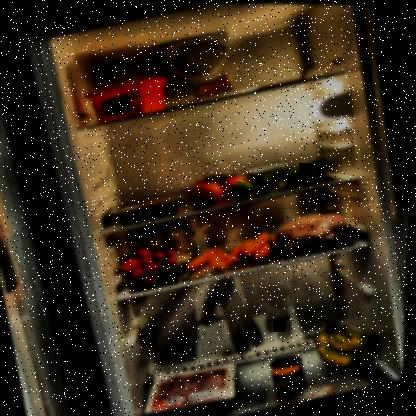banana: (312, 308, 393, 373)
beef: (103, 188, 190, 230)
butter: (84, 71, 175, 127)
carrot: (181, 229, 281, 280)
cheese: (190, 70, 240, 104)
chicken: (271, 200, 362, 261)
corn: (270, 352, 314, 391)
lime: (229, 152, 341, 203)
strawberries: (118, 240, 183, 292)
tomato: (182, 161, 257, 208)
